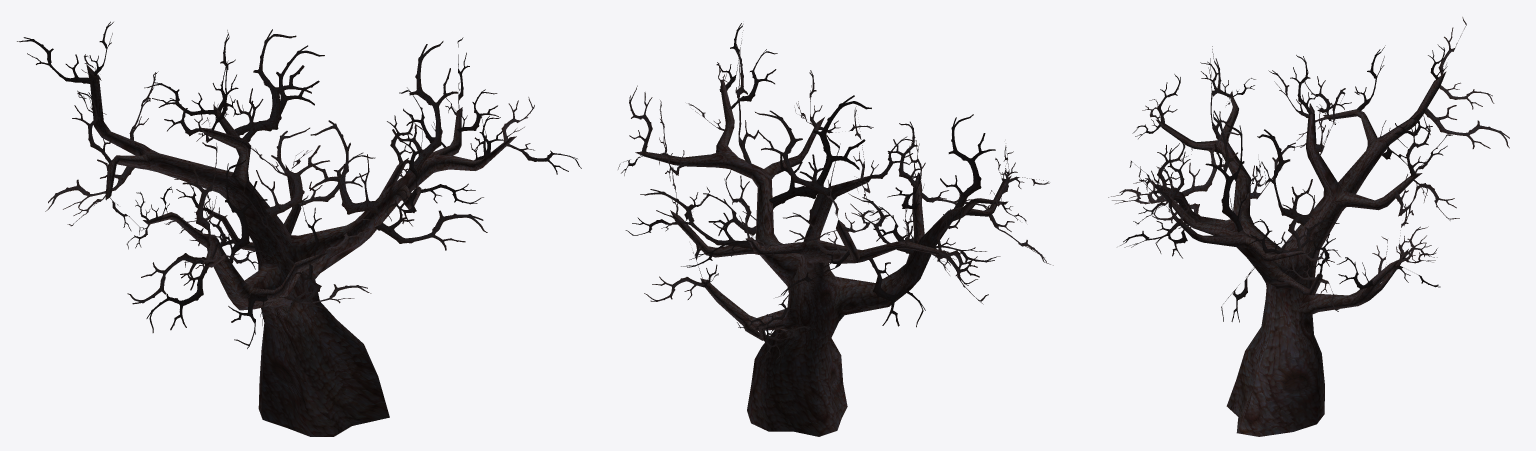
The model's file is oaktree01.obj.
The picture shows the model from 3 angles, left to right: view 1: azimuth 30°, elevation 25°; view 2: azimuth 150°, elevation 25°; view 3: azimuth 270°, elevation 25°; orthographic projection. The views are drawn at different scales.
Visible parts, largest first — view 1: OAKTREE010, OAKTREE011; view 2: OAKTREE010, OAKTREE011; view 3: OAKTREE010, OAKTREE011.
Part boxes in pixels (box(x1,y1,x2,y2)): OAKTREE010: box(86, 64, 516, 436); OAKTREE011: box(17, 21, 581, 348); OAKTREE010: box(635, 78, 1011, 436); OAKTREE011: box(618, 23, 1053, 360); OAKTREE010: box(1155, 71, 1446, 436); OAKTREE011: box(1108, 17, 1509, 322).
Size of the model in its own units: 34.64 by 30.57 by 35.18.
Materials: 2 (2 with a texture image).
